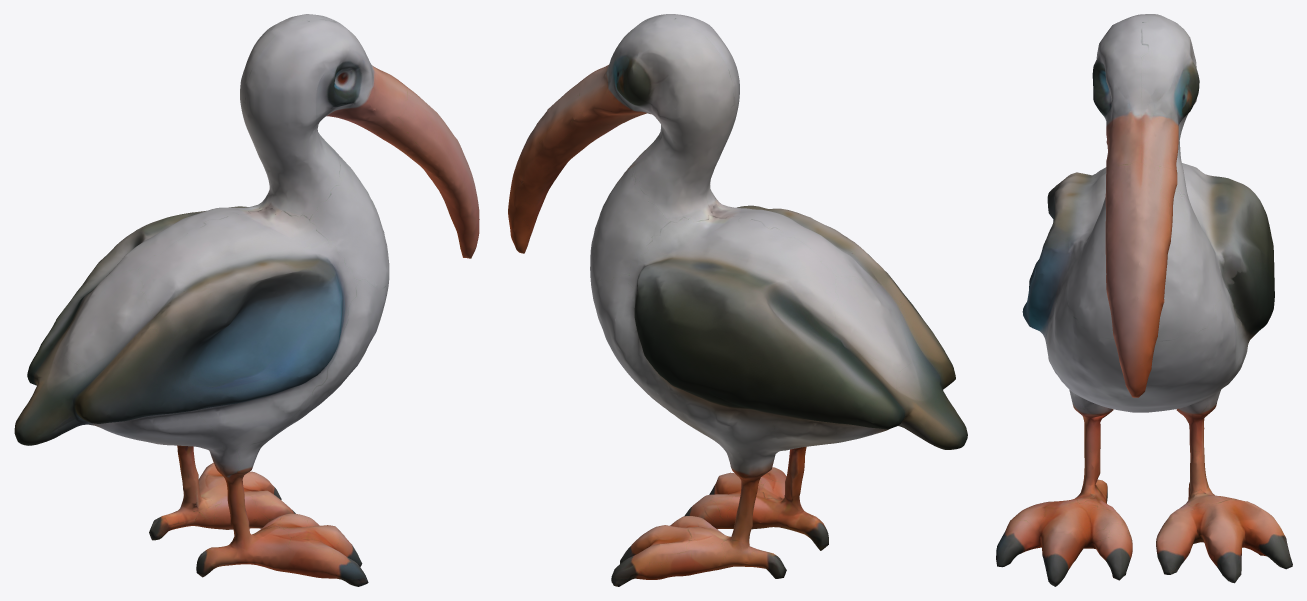
File: a_cartoon_mascot_of_an_ibis_0507194053_refine.fbx
3 views of the same model, side by side, from view 1: azimuth 30°, elevation 25°; view 2: azimuth 150°, elevation 25°; view 3: azimuth 270°, elevation 25° (orthographic). The views are drawn at different scales.
Visible parts, largest first — view 1: Mesh_0; view 2: Mesh_0; view 3: Mesh_0.
Boxes of the visible parts, x1,y1,x2,y2 form: Mesh_0: [14, 14, 479, 586]; Mesh_0: [508, 14, 967, 586]; Mesh_0: [996, 14, 1292, 586].
Size of the model in its own units: 109 by 120 by 57.59.
1 material, 1 textured.
